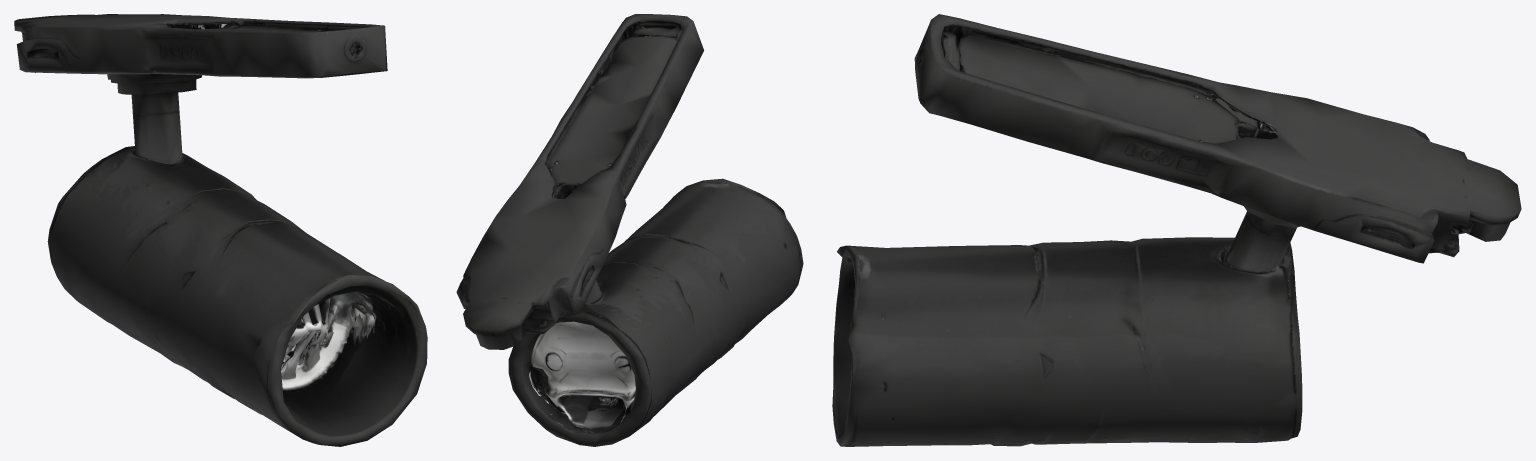
The model's file is luminaria14.obj.
3 renders of one model, left to right at view 1: azimuth 30°, elevation 25°; view 2: azimuth 150°, elevation 25°; view 3: azimuth 270°, elevation 25°, orthographic. The views are drawn at different scales.
Parts seen in each view (by area): view 1: luminaria14; view 2: luminaria14; view 3: luminaria14.
Boxes of the visible parts, left/top/right/bottom form: luminaria14: left=14, top=14, right=427, bottom=446; luminaria14: left=456, top=14, right=803, bottom=446; luminaria14: left=832, top=14, right=1521, bottom=446.
Size of the model in its own units: 0.8137 by 1.63 by 2.36.
Materials: 1 (1 with a texture image).
